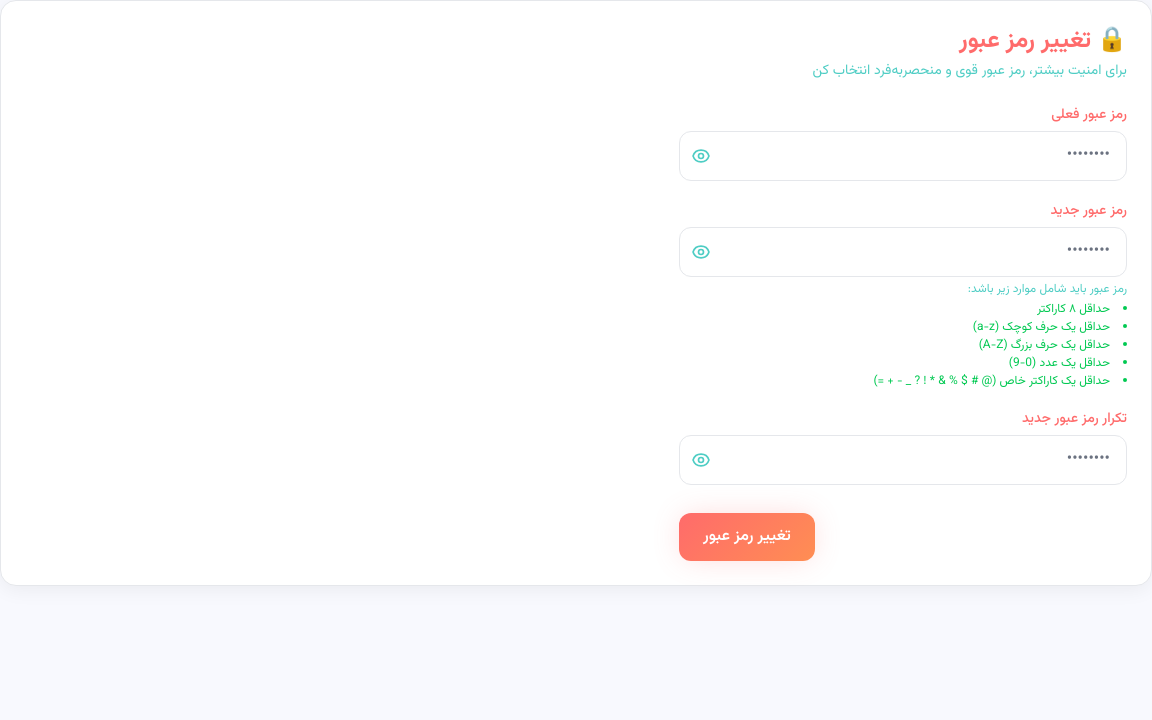
ChangePassword Component - Unit Tests › should show error when passwords do not match
Type "Test@1234" into the 2nd password field with placeholder "••••••••" at x=903, y=252, box left=679, top=227, right=1127, bottom=277
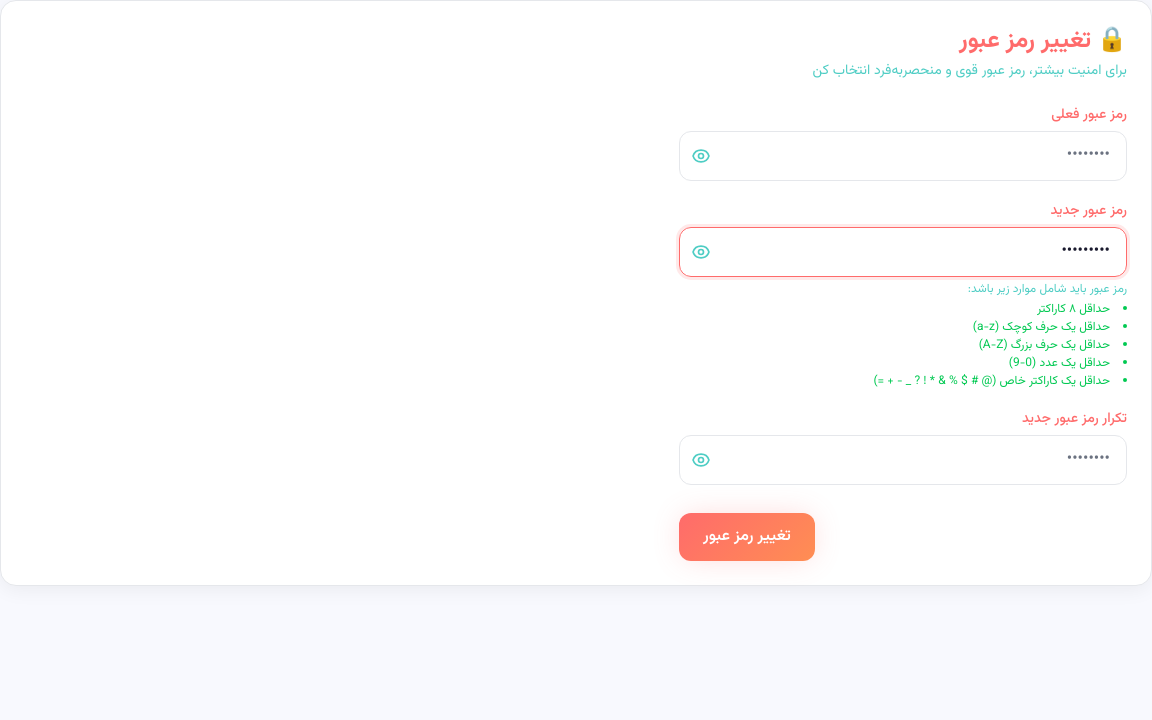
Type "Test@5678" into the password field with placeholder "••••••••" below "تکرار رمز عبور جدید" at x=903, y=460, box left=679, top=435, right=1127, bottom=485
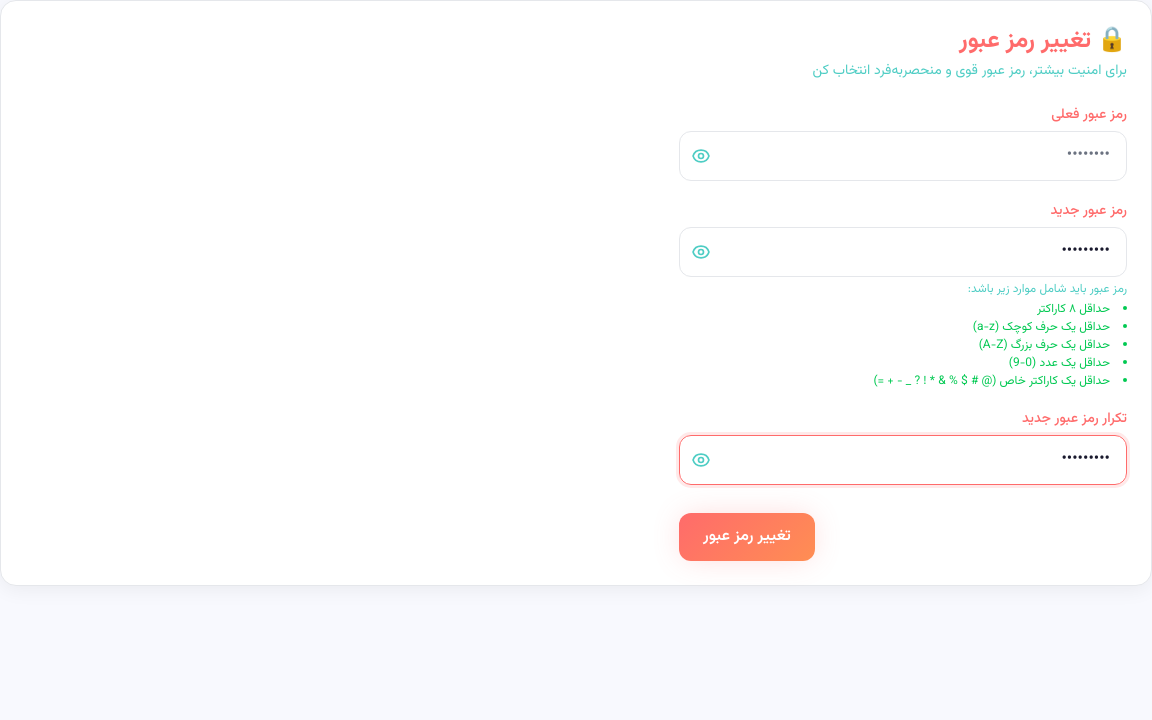
Click the button "تغییر رمز عبور" at x=747, y=537, box left=679, top=513, right=815, bottom=561
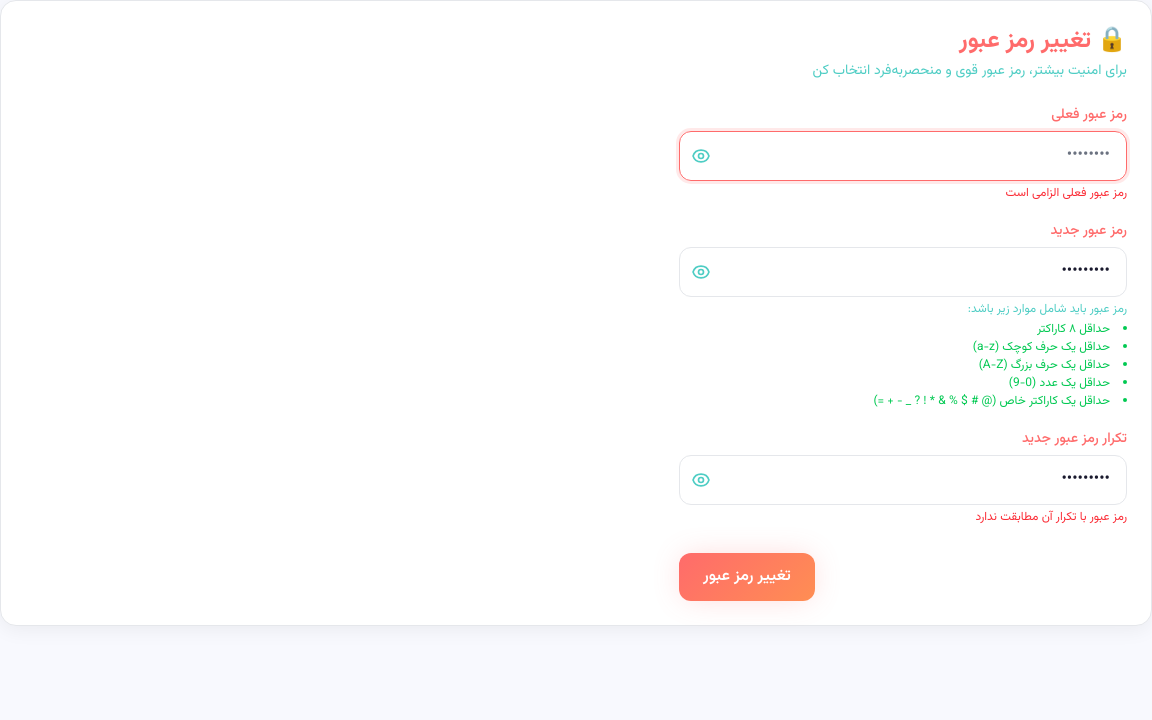
expect the text "رمز عبور با تکرار آن مطابقت ندارد" is shown: met, box left=975, top=508, right=1127, bottom=526
